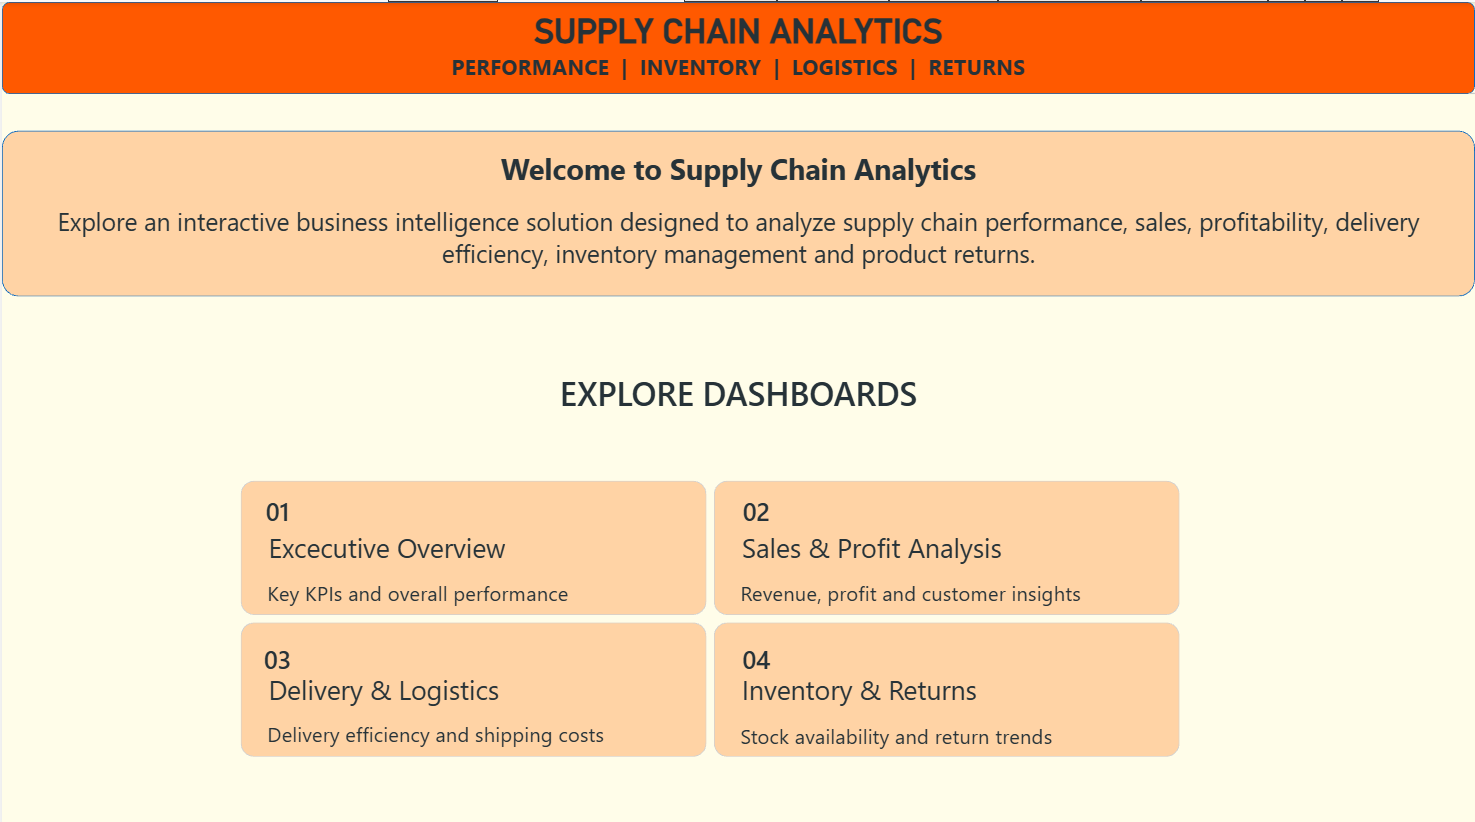

The dashboard page shown, as its layout file describes it:
{"tool":"powerbi","page":{"name":"Home","canvas":[1920,1080],"ordinal":0},"visuals":[{"type":"shape","box":[0,0,1920,120],"z":0},{"type":"textbox","title":"SUPPLY CHAIN ANALYTICS","box":[0,0,1920,120],"z":1000},{"type":"shape","box":[0,168,1920,216],"z":2000},{"type":"textbox","box":[0,192,1920,73],"z":3000},{"type":"textbox","box":[0,264,1920,96],"z":4000},{"type":"textbox","box":[0,480,1920,72],"z":5000},{"type":"pageNavigator","box":[312,624,1224,360],"z":6000},{"type":"textbox","box":[312,744,599,72],"z":7000},{"type":"textbox","box":[936,744,624,72],"z":8000},{"type":"textbox","box":[312,936,600,72],"z":9000},{"type":"textbox","box":[936,931,600,72],"z":10000},{"type":"textbox","box":[312,624,96,72],"z":11000},{"type":"textbox","box":[936,624,96,72],"z":12000},{"type":"textbox","box":[936,816,96,72],"z":13000},{"type":"textbox","box":[312,816,96,72],"z":14000}]}

Visuals, with their boxes in screenshot pixels (x1, y1, x2, y2), scaled from the page's 1920x1080 canvas onto the 1475x822 screenshot:
shape: {"x1": 0, "y1": 0, "x2": 1474, "y2": 91}
"SUPPLY CHAIN ANALYTICS" textbox: {"x1": 0, "y1": 0, "x2": 1474, "y2": 91}
shape: {"x1": 0, "y1": 128, "x2": 1474, "y2": 292}
textbox: {"x1": 0, "y1": 146, "x2": 1474, "y2": 202}
textbox: {"x1": 0, "y1": 201, "x2": 1474, "y2": 274}
textbox: {"x1": 0, "y1": 365, "x2": 1474, "y2": 420}
pageNavigator: {"x1": 240, "y1": 475, "x2": 1180, "y2": 749}
textbox: {"x1": 240, "y1": 566, "x2": 700, "y2": 621}
textbox: {"x1": 719, "y1": 566, "x2": 1198, "y2": 621}
textbox: {"x1": 240, "y1": 712, "x2": 701, "y2": 767}
textbox: {"x1": 719, "y1": 709, "x2": 1180, "y2": 763}
textbox: {"x1": 240, "y1": 475, "x2": 313, "y2": 530}
textbox: {"x1": 719, "y1": 475, "x2": 793, "y2": 530}
textbox: {"x1": 719, "y1": 621, "x2": 793, "y2": 676}
textbox: {"x1": 240, "y1": 621, "x2": 313, "y2": 676}
